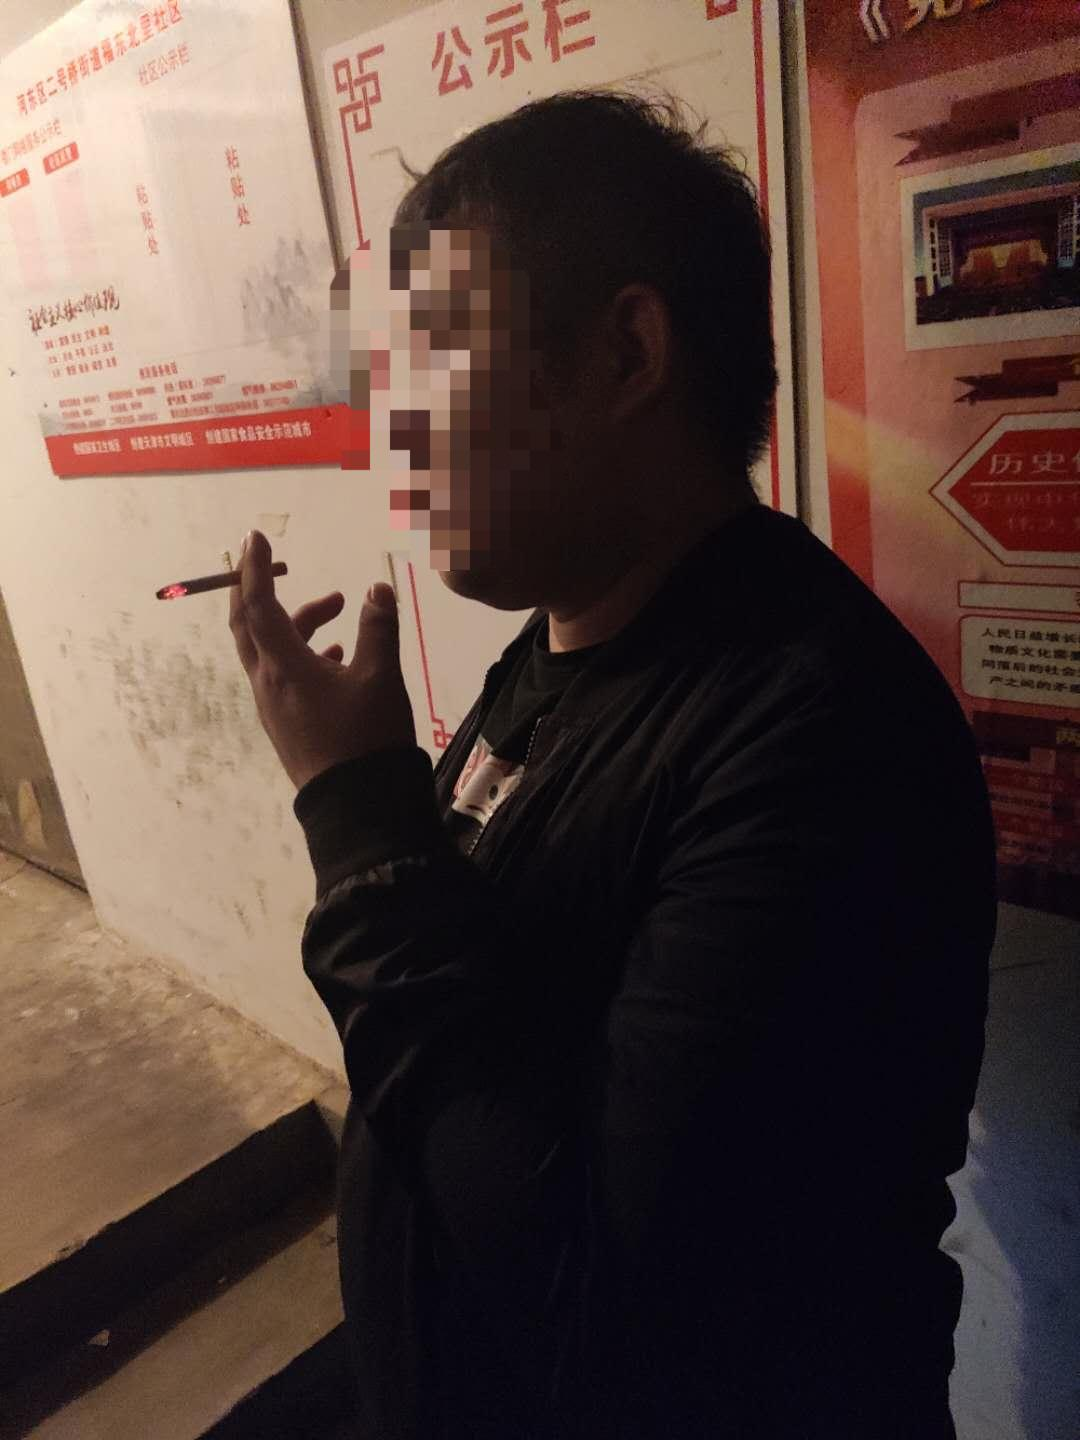smoke: (150, 552, 294, 604)
